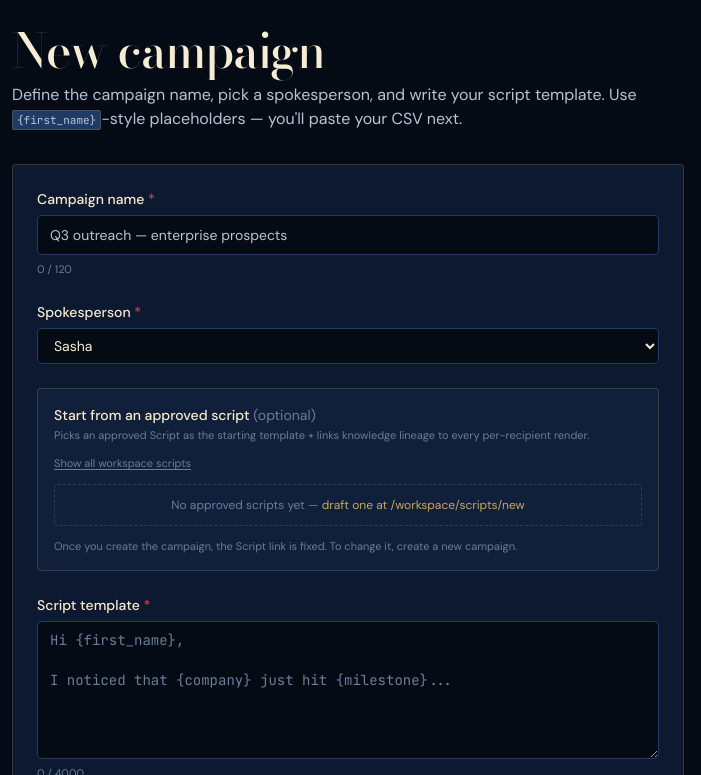
Test: CampaignNewRoute › shows inline template validation error when template is empty on submit
This screenshot has width=701, height=775.
In the field with test id "campaign-name-input": (348, 235) [37, 215, 659, 255], type "My Campaign"
(page scrolled)
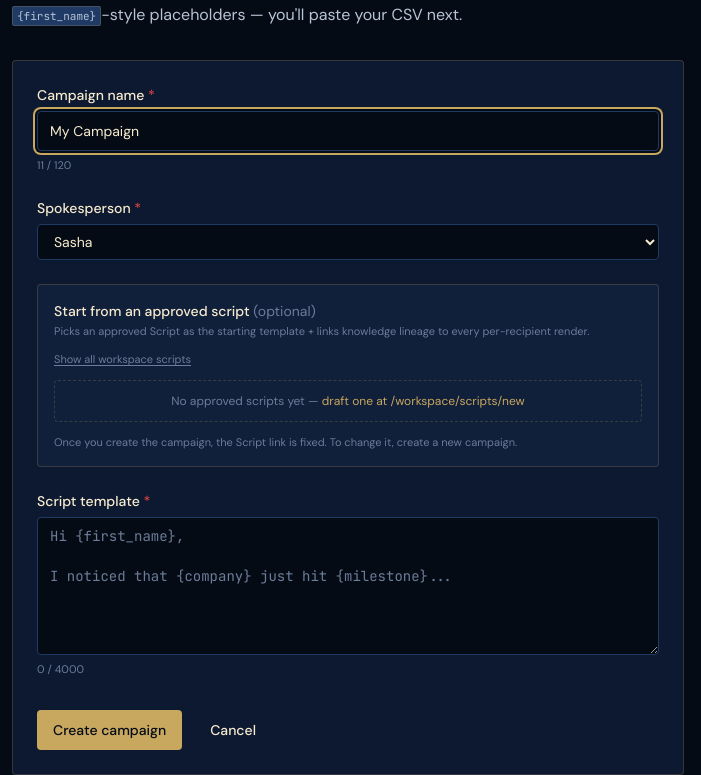
Click the button with test id "campaign-create-submit": (110, 730) [37, 710, 182, 750]
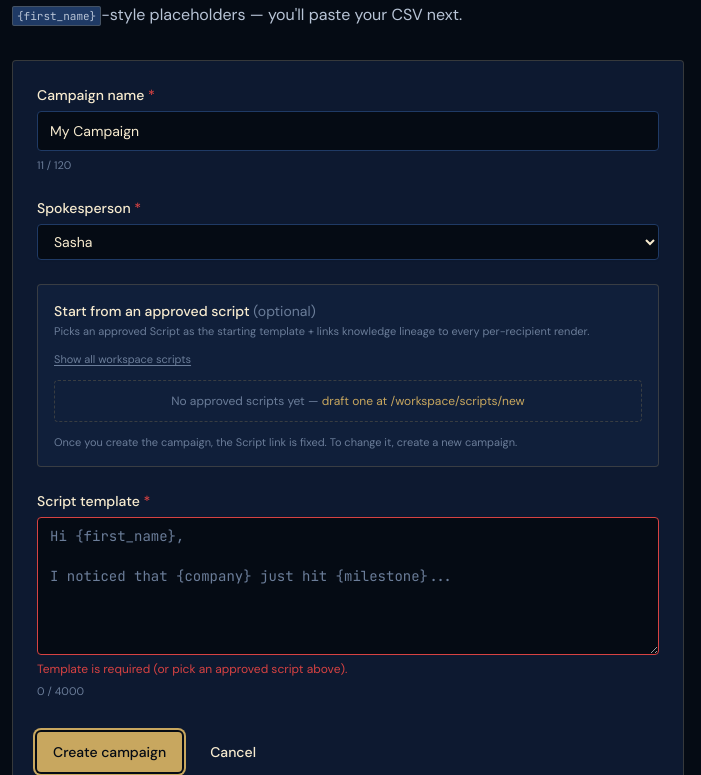
Now the text "Template is required (or pick an approved script above)." is shown, box [37, 661, 347, 677]
